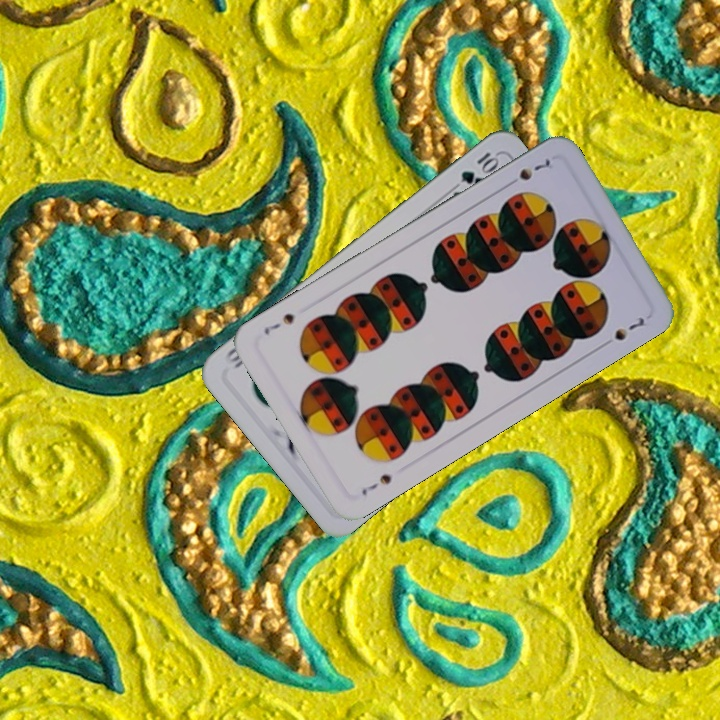G10: (456, 148, 502, 187)
S7: (502, 155, 553, 190), (357, 470, 394, 499)
